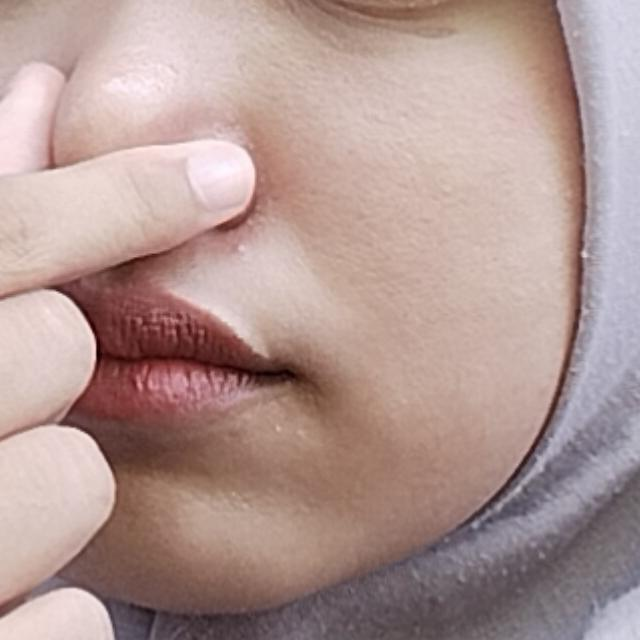bau: (0, 28, 445, 640)
